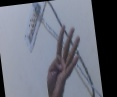hand: (44, 24, 81, 96)
